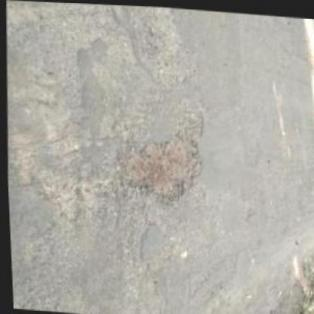Hueco: (114, 100, 208, 208)
